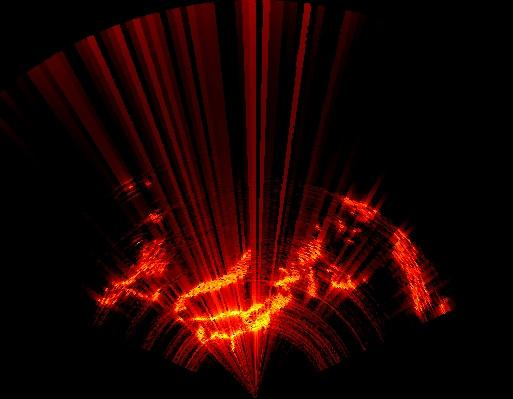shipwreck: (181, 238, 321, 352), (192, 239, 321, 348), (174, 251, 250, 320), (174, 250, 251, 316), (392, 230, 432, 316), (100, 251, 157, 304), (342, 197, 379, 221), (330, 276, 365, 291)
